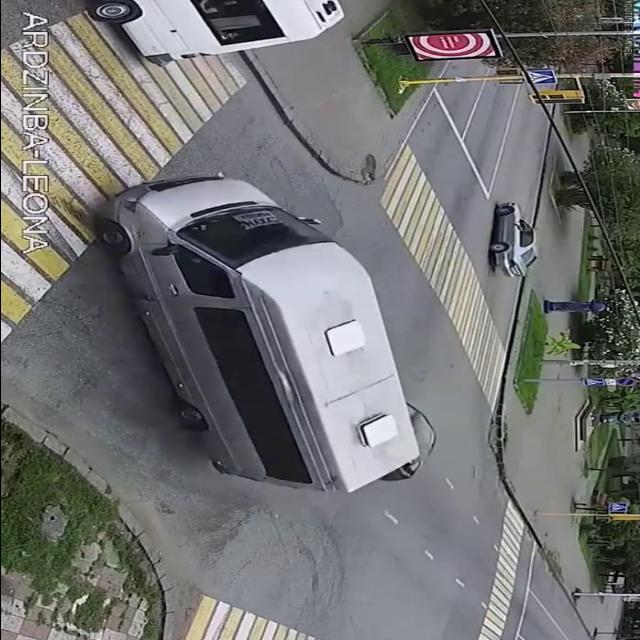accident: (84, 165, 452, 500)
